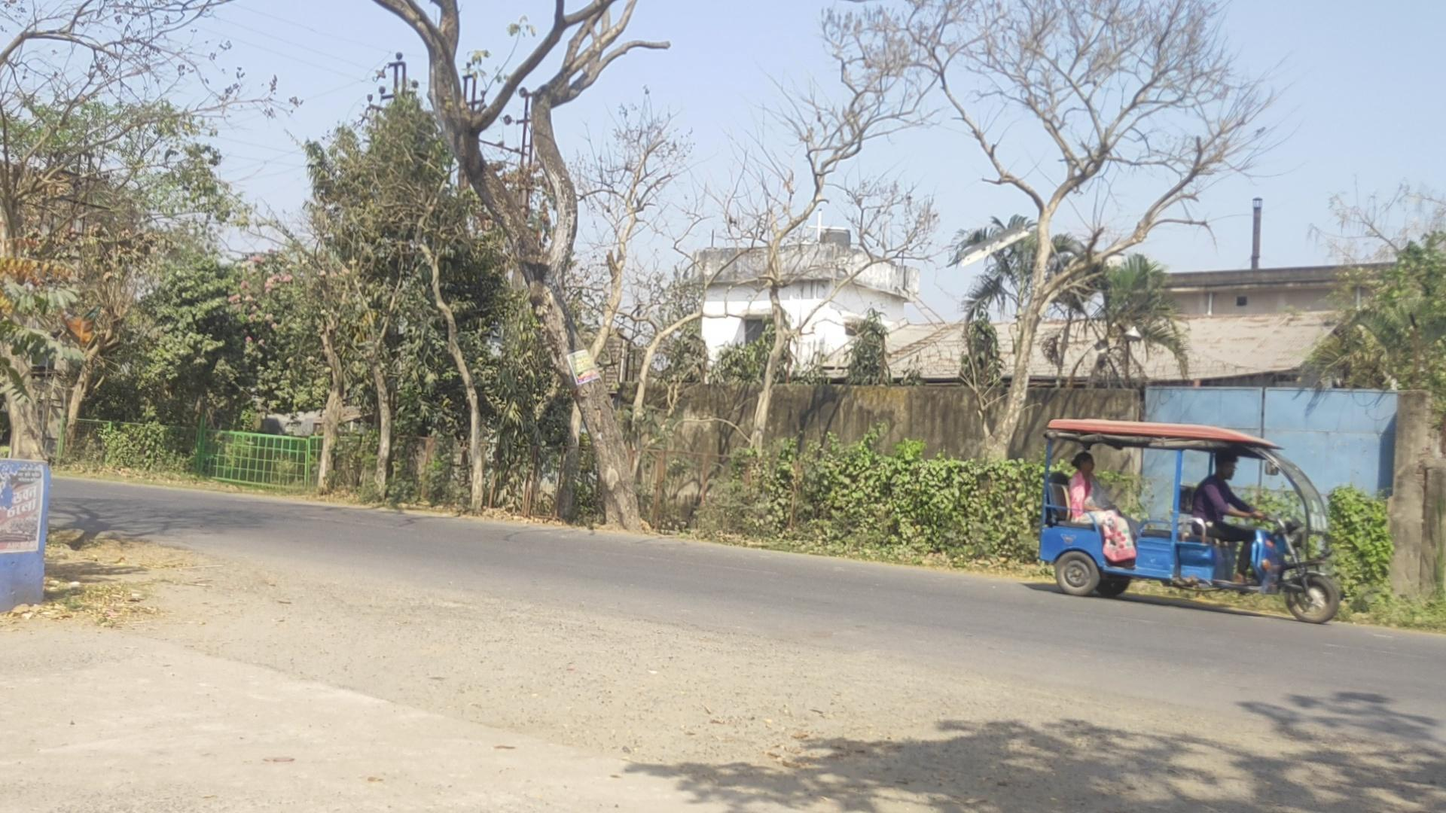Auto: (1038, 418, 1340, 625)
